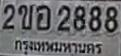2: (57, 4, 70, 31), (2, 3, 14, 29)
8: (88, 5, 102, 31), (105, 5, 118, 32), (73, 5, 86, 31)
A02: (18, 4, 33, 30)
A43: (35, 4, 51, 31)
BKK: (12, 38, 104, 56)
